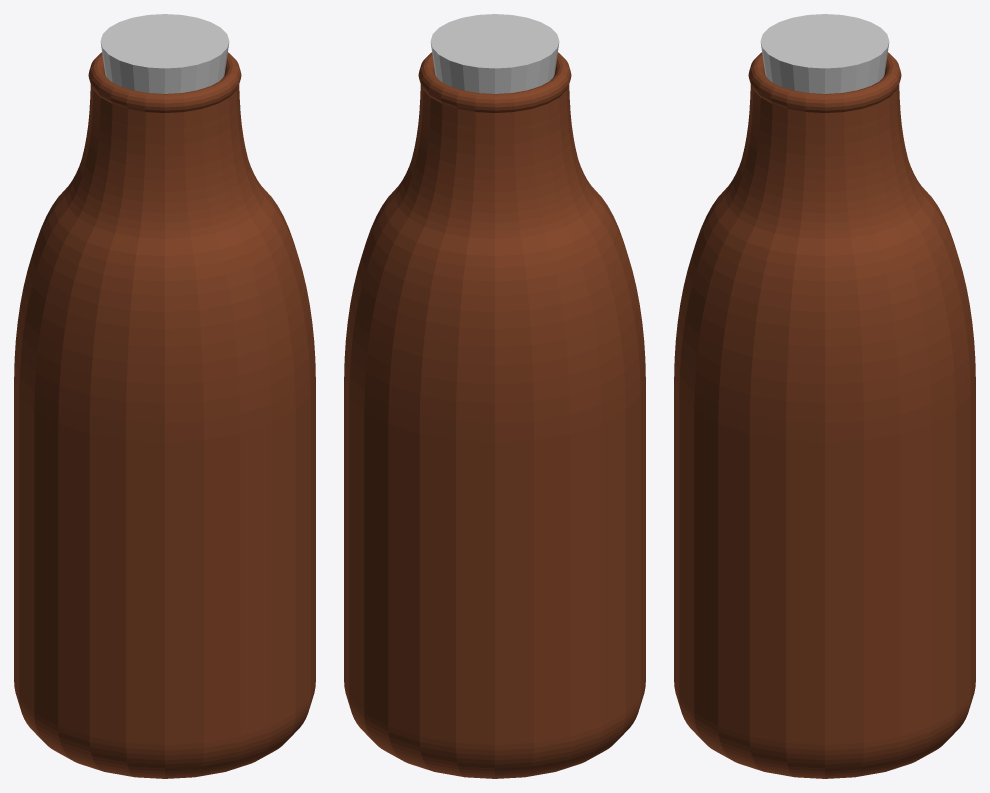
The picture shows the model from 3 angles, left to right: view 1: azimuth 30°, elevation 25°; view 2: azimuth 150°, elevation 25°; view 3: azimuth 270°, elevation 25°; orthographic projection.
Parts seen in each view (by area): view 1: mesh1_mesh1-geometry, mesh3_mesh3-geometry; view 2: mesh1_mesh1-geometry, mesh3_mesh3-geometry; view 3: mesh1_mesh1-geometry, mesh3_mesh3-geometry.
Boxes of the visible parts, x1,y1,x2,y2 form: mesh1_mesh1-geometry: [14, 52, 315, 778]; mesh3_mesh3-geometry: [100, 14, 229, 93]; mesh1_mesh1-geometry: [344, 52, 645, 778]; mesh3_mesh3-geometry: [430, 14, 559, 93]; mesh1_mesh1-geometry: [674, 52, 975, 778]; mesh3_mesh3-geometry: [760, 14, 889, 93].
Bounding box in the file's own units: 0.3448 × 0.8731 × 0.3448.
